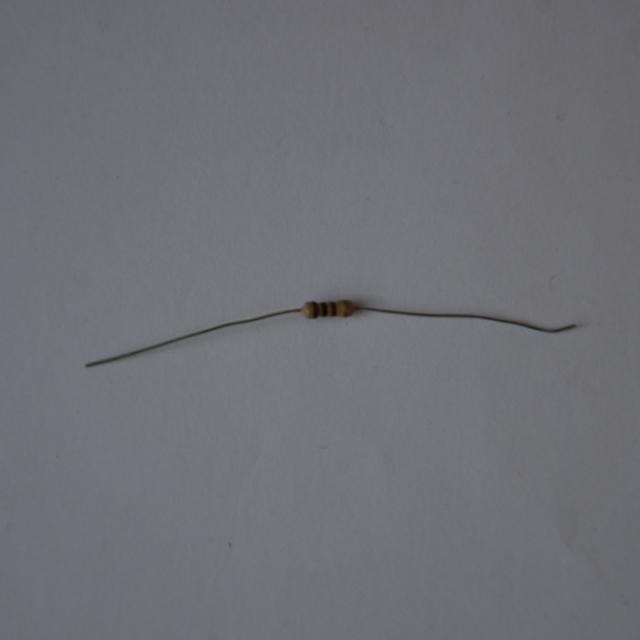Resistor Carbon-Film: (304, 298, 360, 318)
